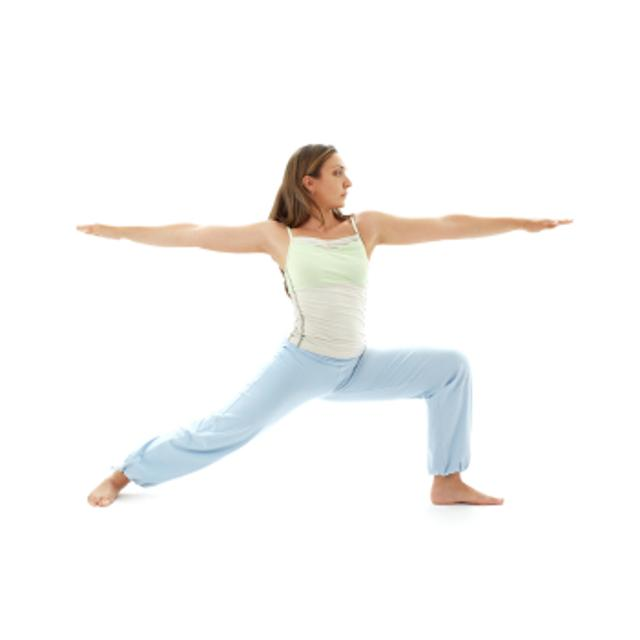Warrior_II: (64, 139, 584, 519)
